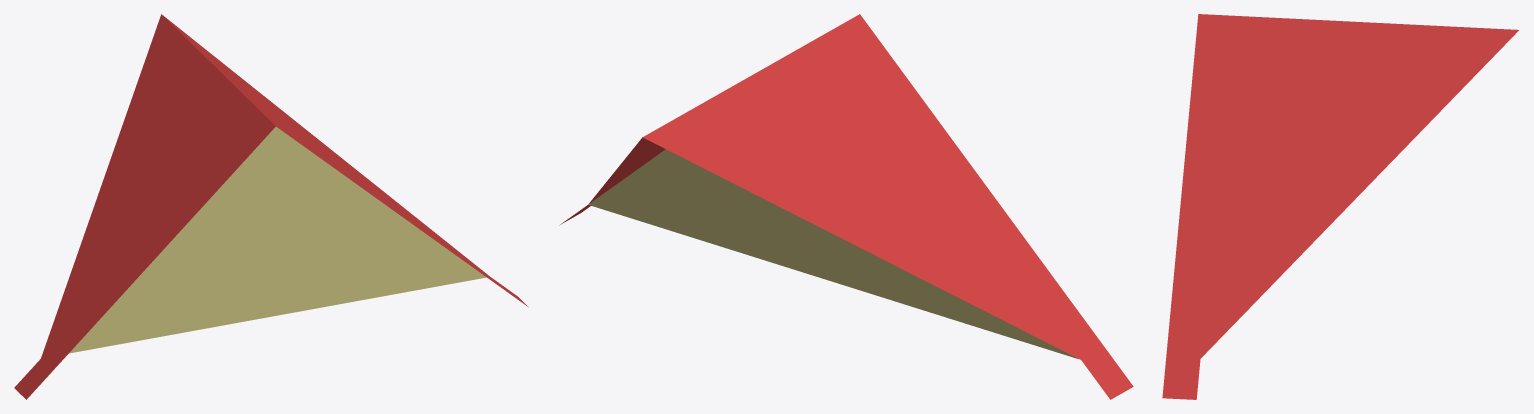
3 renders of one model, left to right at view 1: azimuth 30°, elevation 25°; view 2: azimuth 150°, elevation 25°; view 3: azimuth 270°, elevation 25°, orthographic. The views are drawn at different scales.
Bounding box in the file's own units: 8.85 × 5.16 × 4.06.
